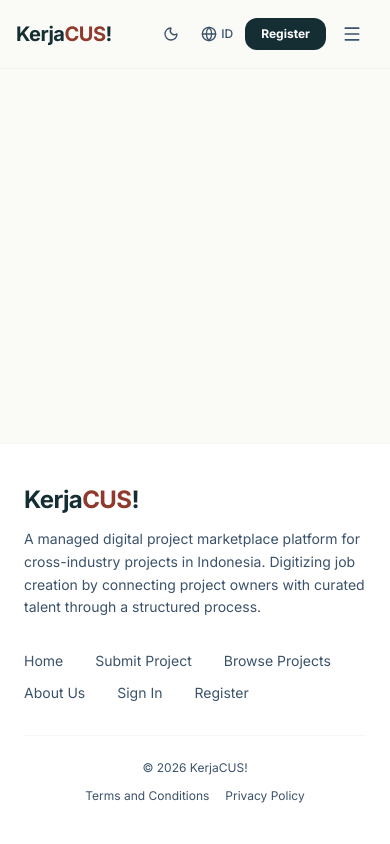
Test: the header navigation › opens the mobile menu and closes it again
The image size is (390, 844).
Click the button named "Open menu" at (352, 34), box [330,12,374,56]
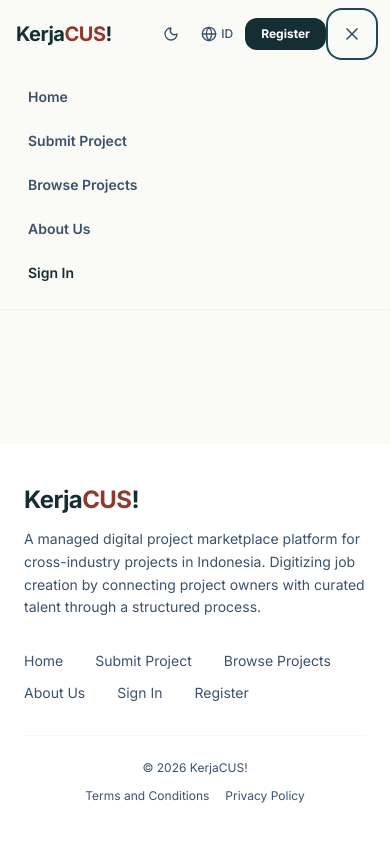
Click the button named "Close menu" at (352, 34), box [330,12,374,56]
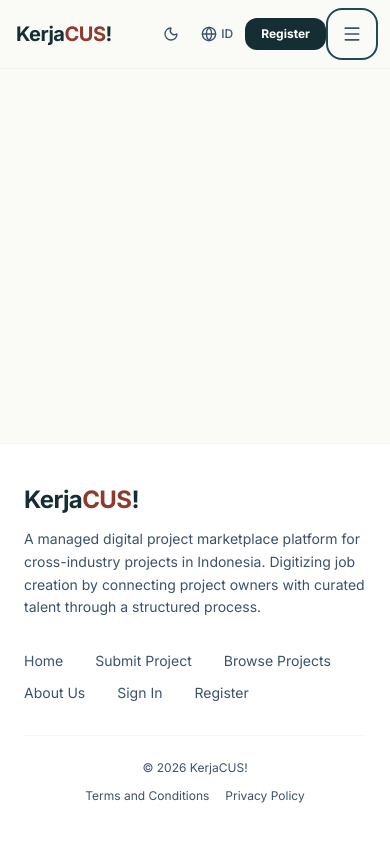
Check: the button named "Open menu" is shown, box [330,12,374,56]
